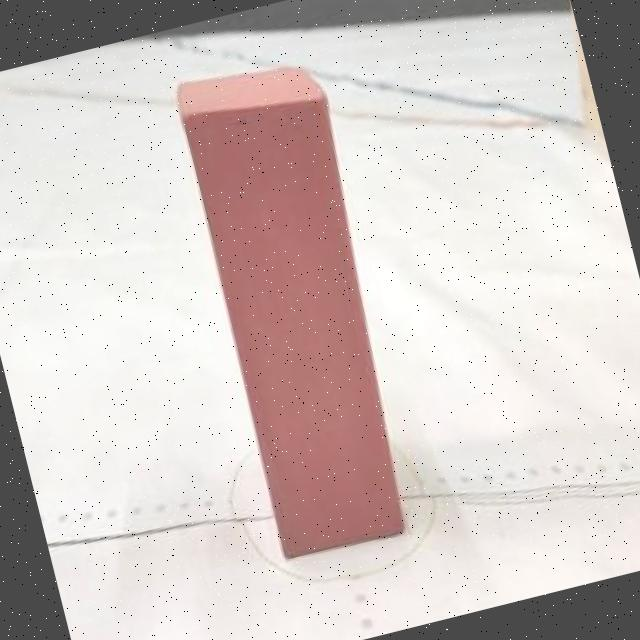redbox: (168, 46, 430, 561)
